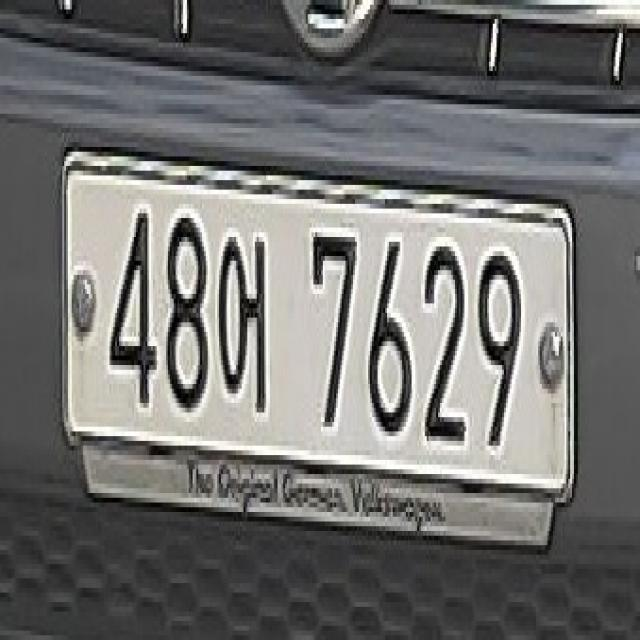2: (420, 234, 472, 478)
4: (104, 204, 160, 422)
6: (367, 220, 412, 480)
7: (304, 210, 362, 440)
8: (164, 204, 212, 428)
9: (475, 246, 525, 462)
eo: (214, 208, 273, 434)
license_plate: (51, 117, 586, 548)
